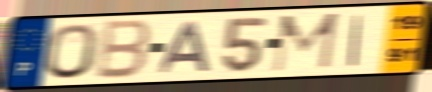5: (221, 16, 270, 74)
A: (156, 20, 213, 75)
B: (92, 18, 155, 81)
I: (346, 14, 365, 68)
M: (269, 11, 342, 74)
O: (44, 22, 101, 81)
